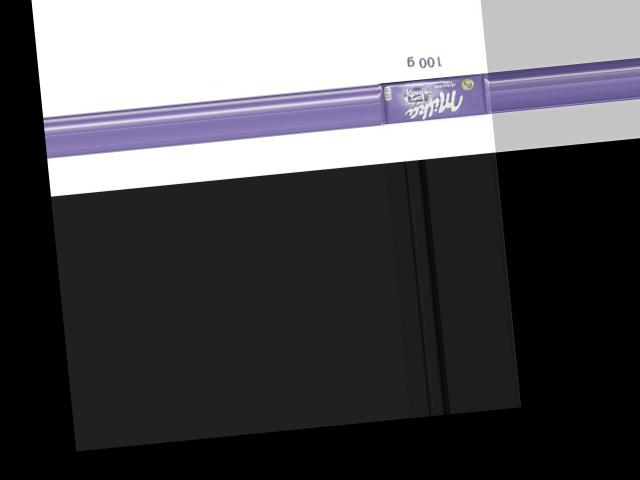chocolate: (375, 65, 489, 125)
